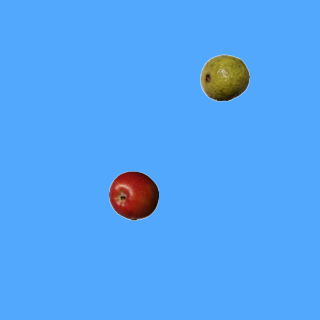Apple Braeburn: (108, 170, 158, 220)
Guava: (199, 52, 249, 102)
